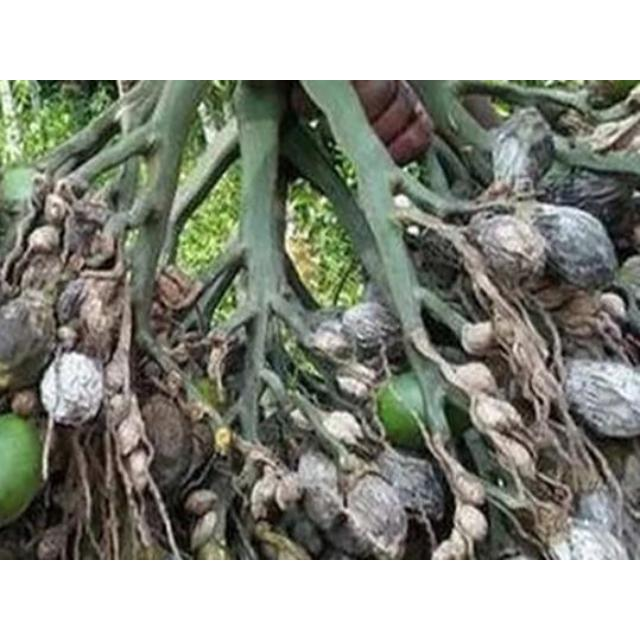damaged: (540, 172, 636, 246), (549, 480, 637, 558), (333, 472, 409, 558), (562, 360, 640, 440), (487, 108, 555, 192), (468, 213, 546, 283), (377, 449, 449, 523), (294, 450, 344, 530), (412, 225, 471, 287), (341, 299, 402, 356), (61, 200, 112, 266), (308, 316, 354, 364), (212, 331, 250, 389), (472, 395, 524, 435), (522, 358, 562, 408), (56, 278, 94, 326), (319, 410, 365, 448), (495, 434, 537, 474), (287, 516, 327, 556), (452, 362, 498, 396), (114, 409, 146, 457), (252, 411, 286, 454), (454, 502, 490, 542), (451, 470, 487, 506), (460, 321, 498, 355), (250, 474, 280, 516), (38, 524, 72, 558), (190, 511, 220, 549), (274, 477, 306, 511), (490, 314, 524, 346), (334, 374, 372, 402), (102, 354, 128, 394), (27, 225, 61, 255), (183, 488, 219, 516), (430, 534, 466, 560), (42, 193, 70, 225), (598, 292, 626, 322), (128, 448, 150, 484), (10, 390, 38, 418), (334, 448, 362, 474), (108, 392, 132, 422), (288, 408, 314, 432), (56, 325, 78, 347)
